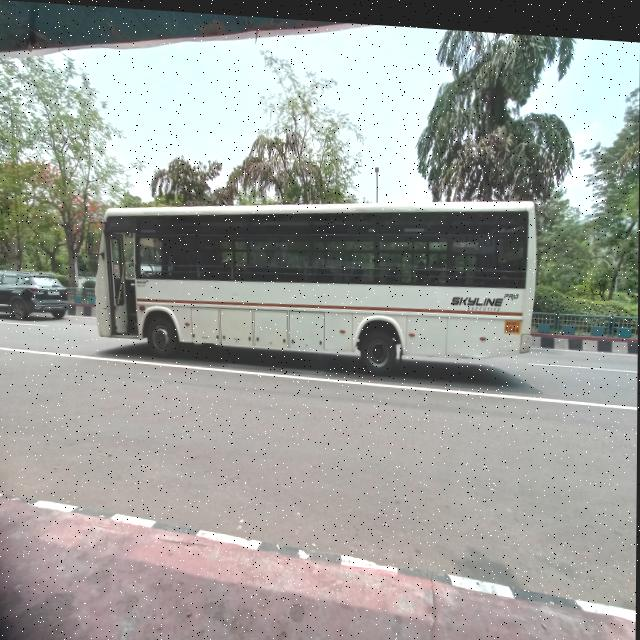bus: (82, 160, 551, 404)
car: (1, 261, 71, 334)
